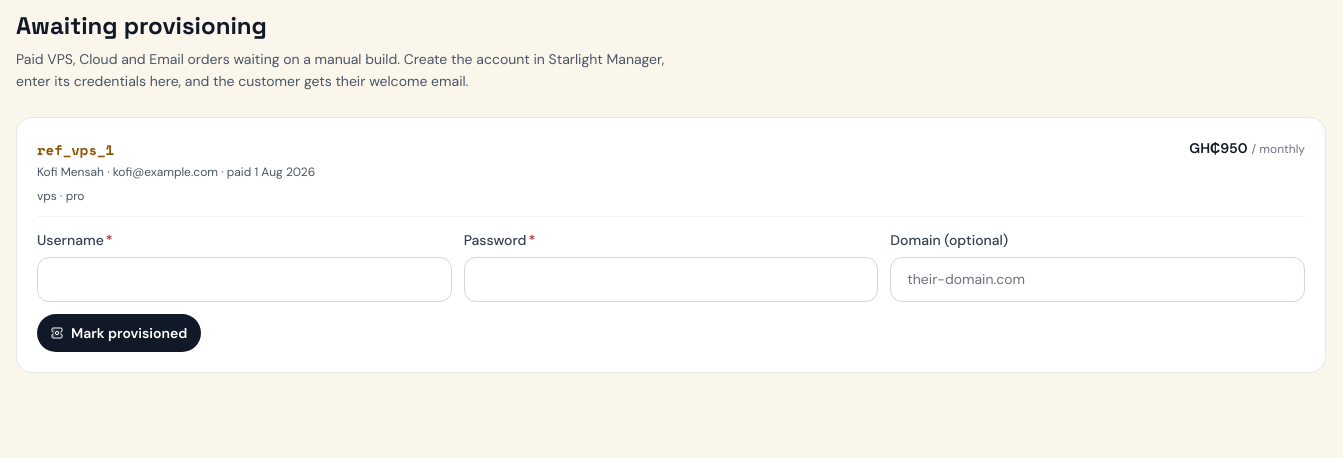
it: Awaiting-provisioning queue (T68) › surfaces the server's reason when a mark is refused
The image size is (1343, 458).
Click the button "Mark provisioned".
click(119, 333)  # box x1=37 y1=314 x2=201 y2=352
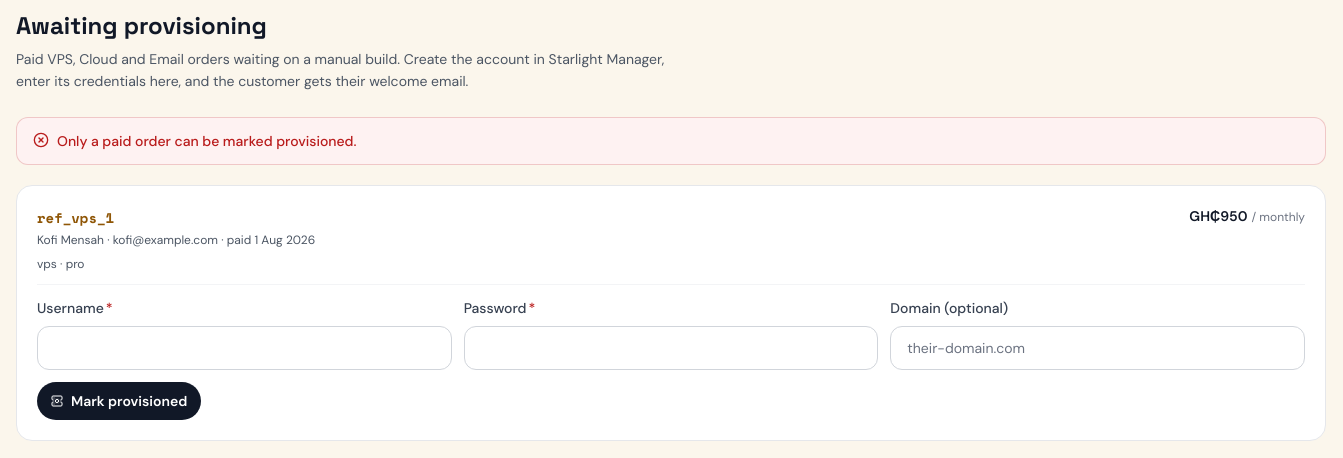
Now the text "Only a paid order can be marked provisioned." is shown, box x1=57 y1=130 x2=356 y2=152
